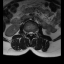CCS_normal: (30, 30, 31, 38)
LFS_normal: (33, 31, 34, 36)
LLS_normal: (31, 31, 33, 36)
RFS_normal: (26, 30, 28, 36)
RLS_normal: (28, 31, 30, 36)
